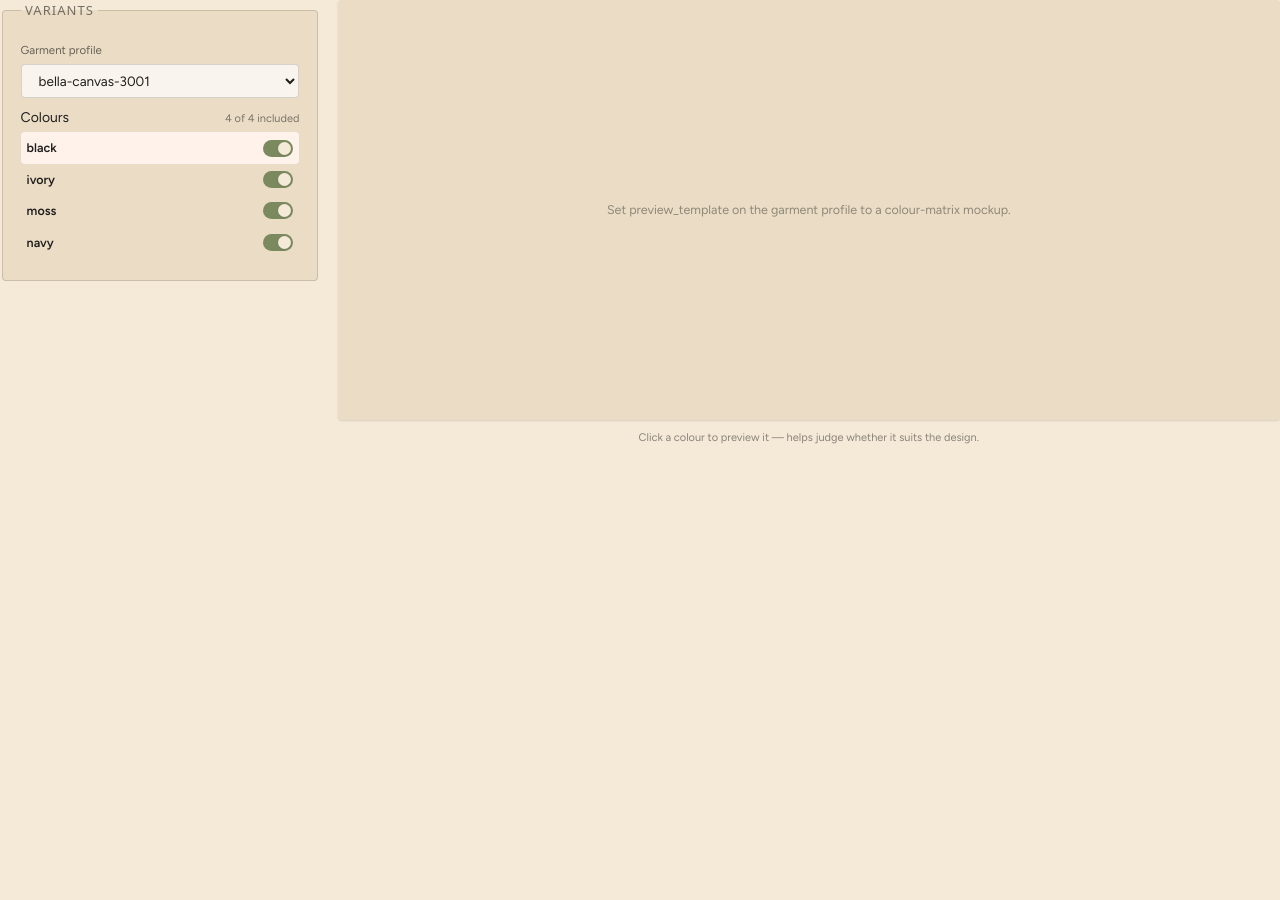
Test: VariantsTab's colour designs (interactions §5-§7) › offers an empty slot's colour its own design beside filling the slot
Click the button with aria-label "Preview ivory" at (141, 180), box [27, 170, 255, 189]
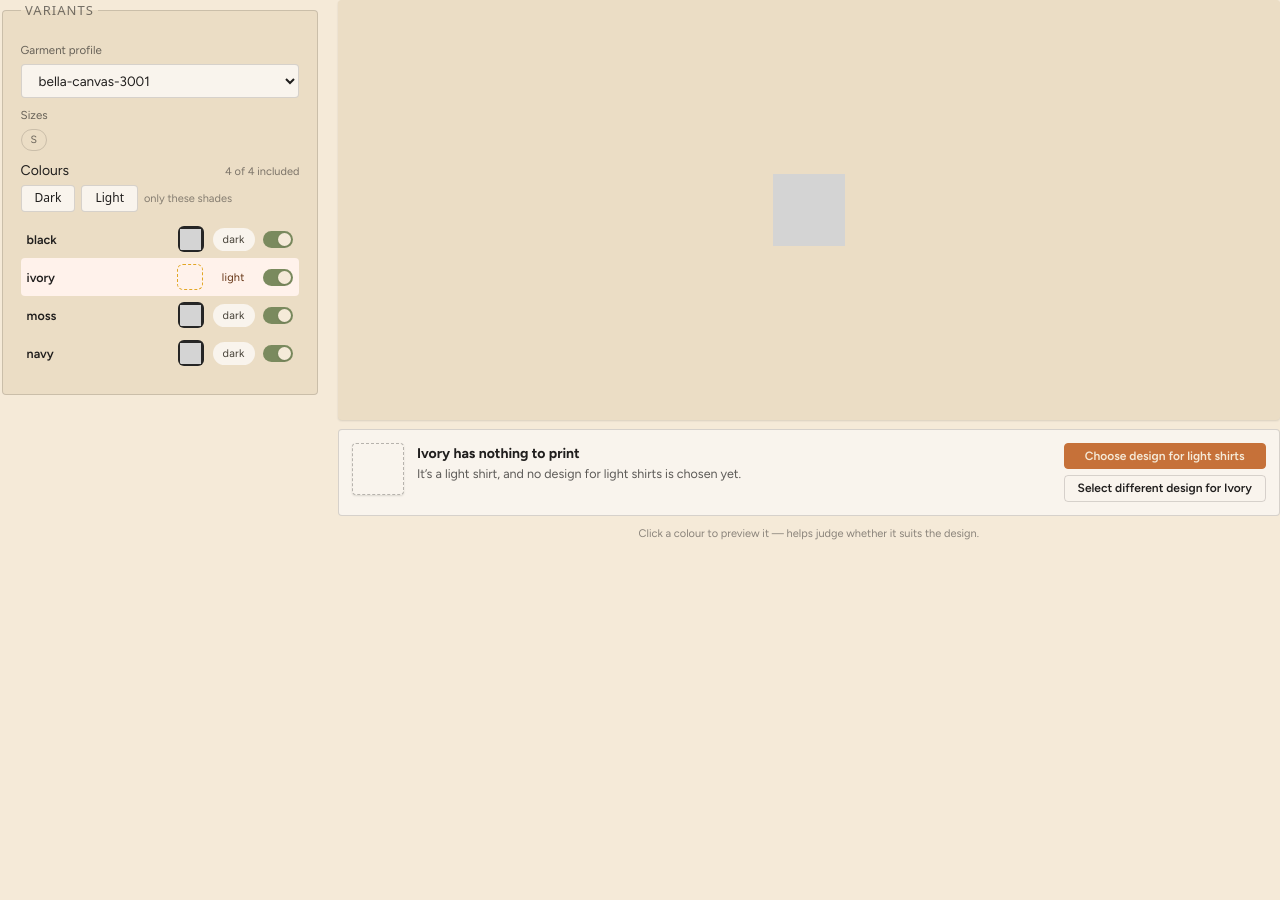
Click the button "Select different design for Ivory" at (1165, 489), box [1064, 475, 1266, 502]
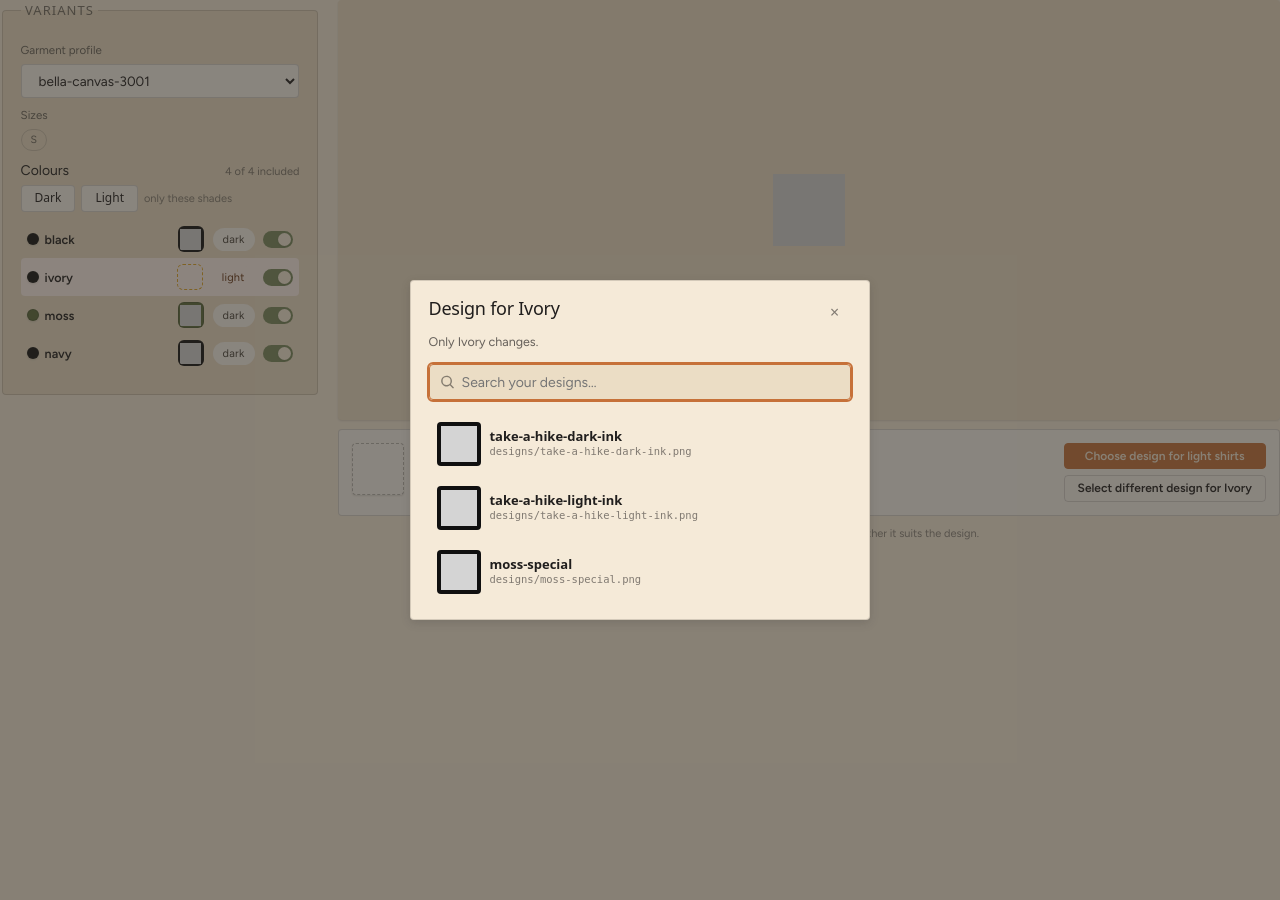
Check: the dialog "Design for Ivory" is shown
